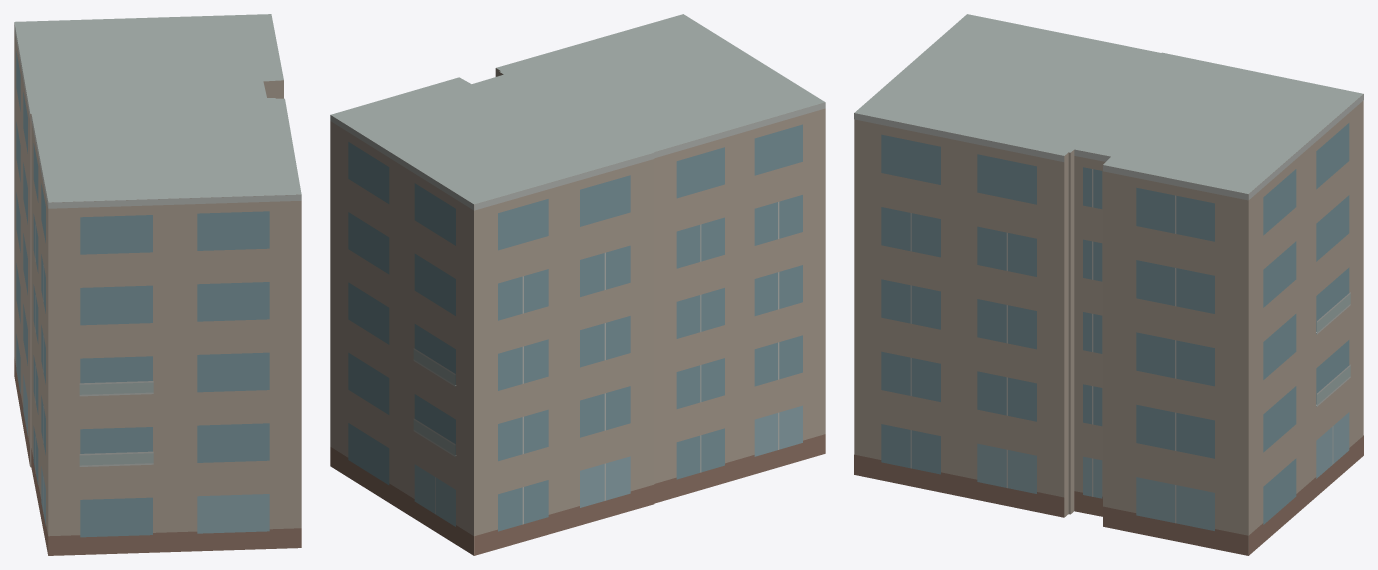
The model's file is survey-upis-32531522.glb.
The picture shows the model from 3 angles, left to right: view 1: azimuth 30°, elevation 25°; view 2: azimuth 150°, elevation 25°; view 3: azimuth 270°, elevation 25°; orthographic projection. The views are drawn at different scales.
Parts seen in each view (by area): view 1: survey-upis-32531522.tmp; view 2: survey-upis-32531522.tmp; view 3: survey-upis-32531522.tmp.
Part boxes in pixels (bbox=[...]): survey-upis-32531522.tmp: bbox=[14, 14, 301, 555]; survey-upis-32531522.tmp: bbox=[330, 14, 825, 555]; survey-upis-32531522.tmp: bbox=[854, 14, 1363, 555].
Size of the model in its own units: 14.85 by 13.9 by 17.76.
